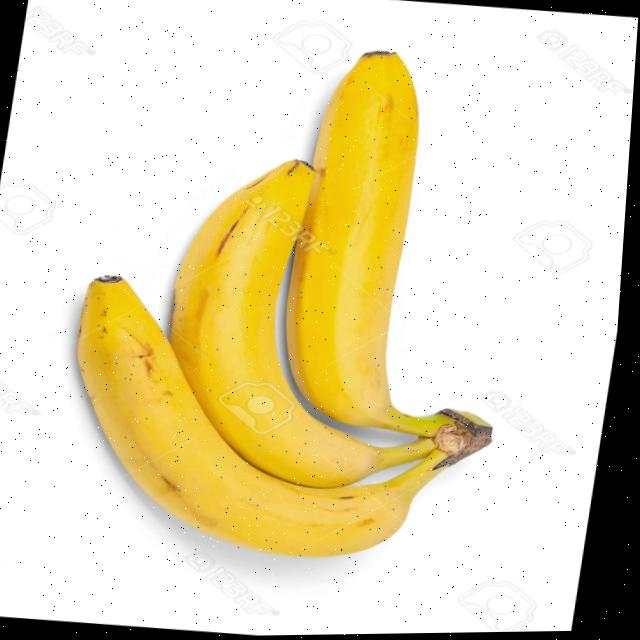Banana: (81, 277, 450, 558), (174, 161, 438, 488), (291, 53, 495, 468)
